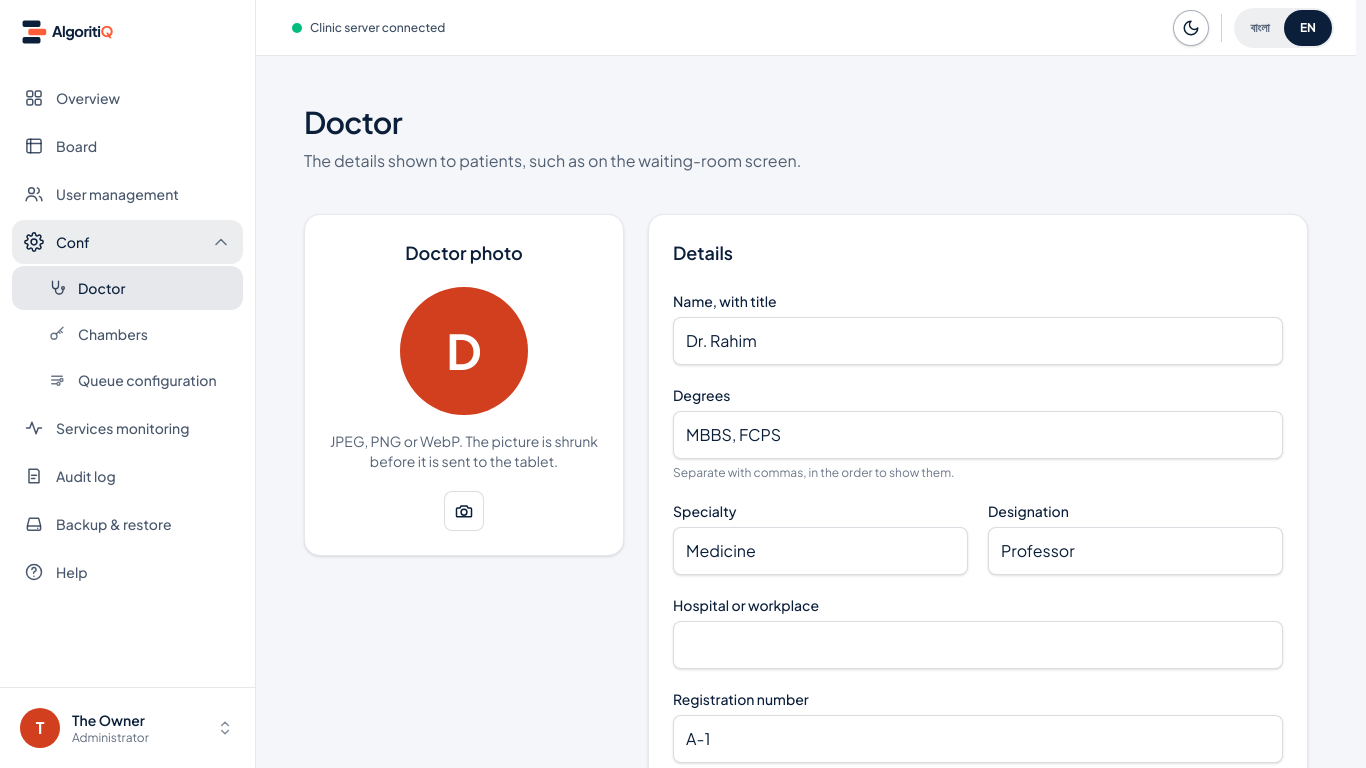
doctor page › should put back what was saved with the discard icon
Check: the field labelled "Name, with title" is shown, box x1=673 y1=317 x2=1283 y2=365
Type " more" into the field labelled "Specialty" at (820, 551), box x1=673 y1=527 x2=968 y2=575
(page scrolled)
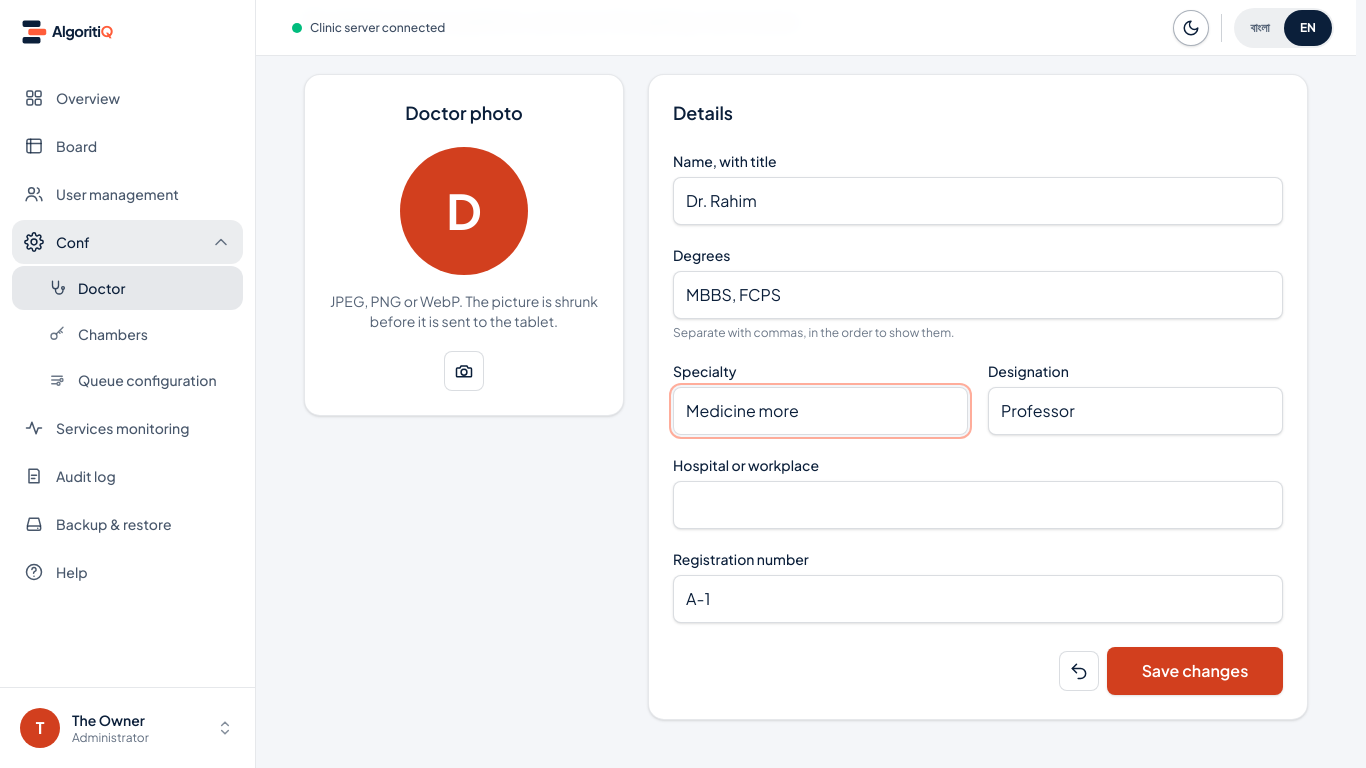
Click the button named "Discard changes" at (1079, 671), box x1=1059 y1=651 x2=1099 y2=691
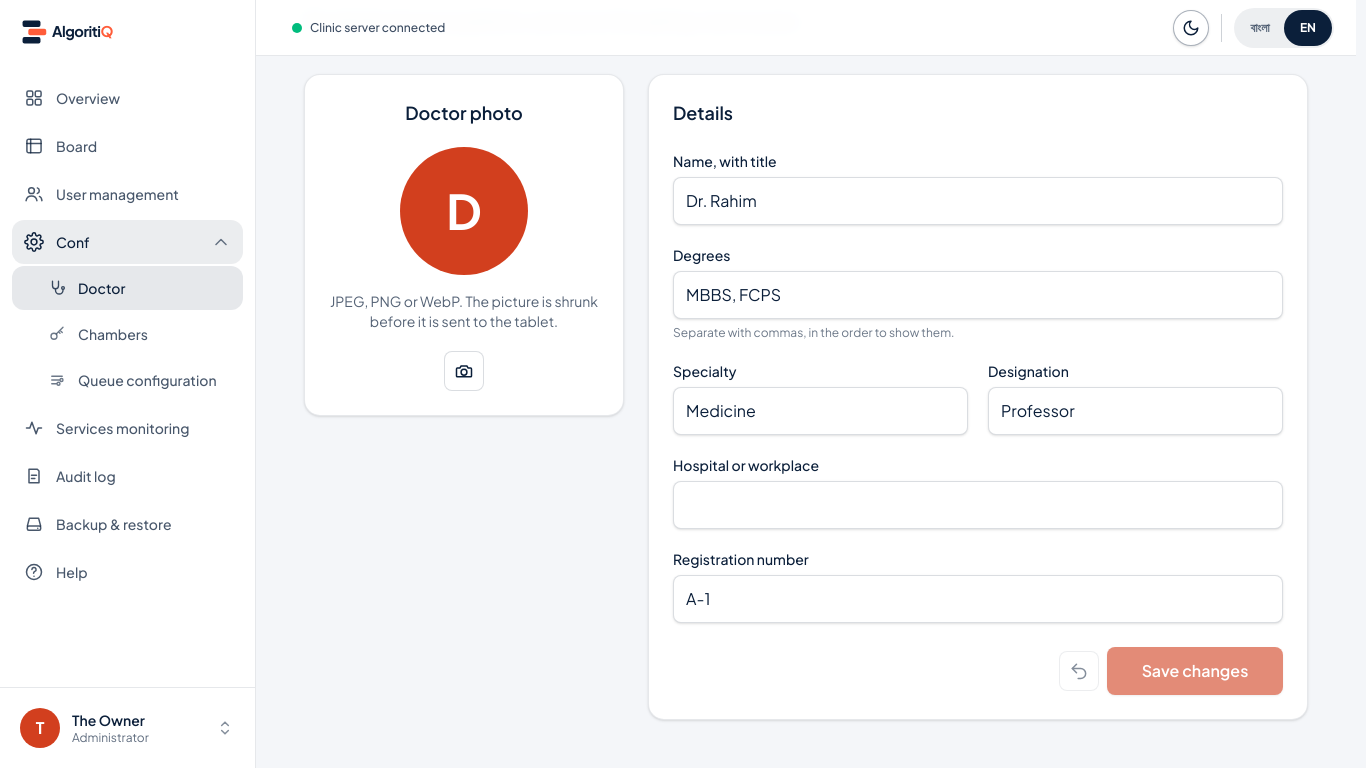
Check: the field labelled "Specialty" holds "Medicine", box x1=673 y1=387 x2=968 y2=435
